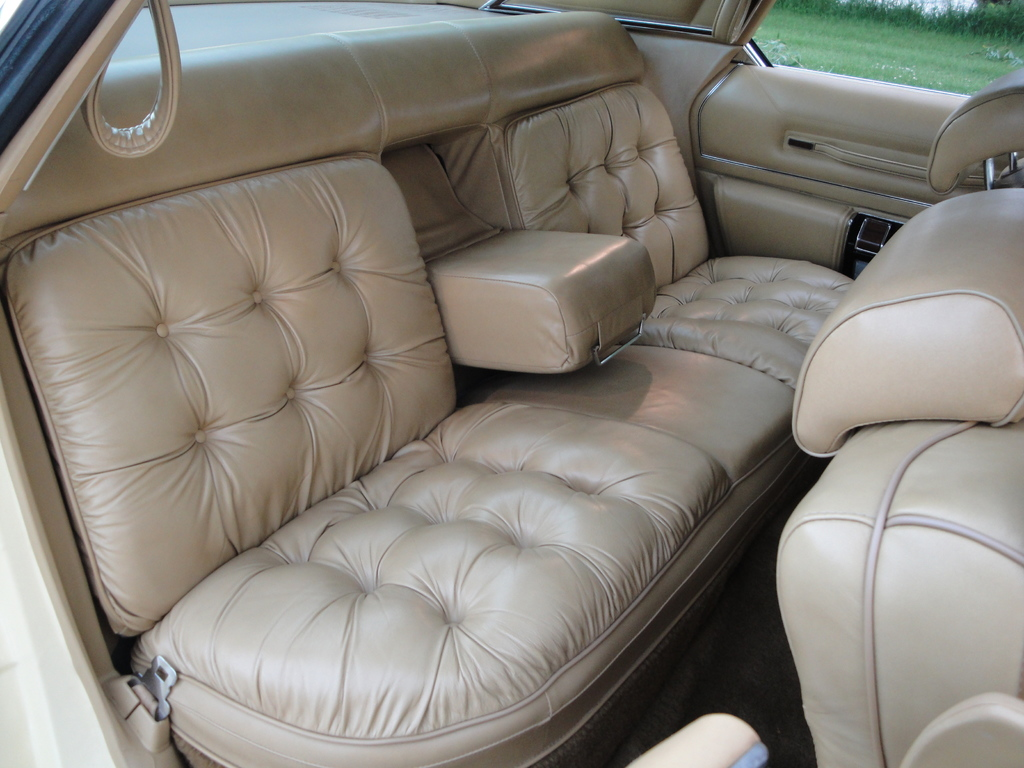Car: (0, 0, 1020, 767)
